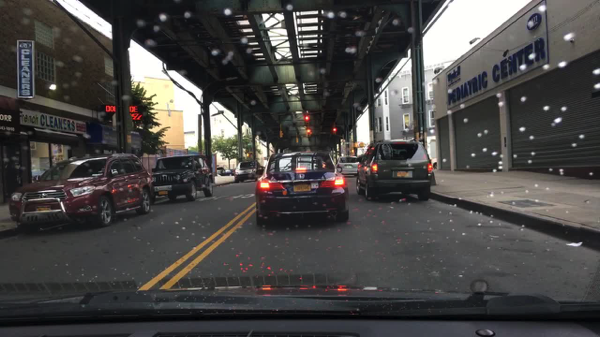car: (9, 152, 154, 231), (253, 150, 349, 229), (355, 140, 436, 202), (148, 154, 214, 201), (234, 160, 264, 183), (334, 155, 359, 177), (216, 166, 226, 177), (225, 169, 235, 177)
traffic light: (306, 130, 312, 138), (358, 142, 364, 148), (279, 130, 283, 138), (352, 143, 358, 148), (304, 116, 309, 120), (296, 138, 298, 143), (307, 130, 310, 133), (333, 129, 336, 132)
